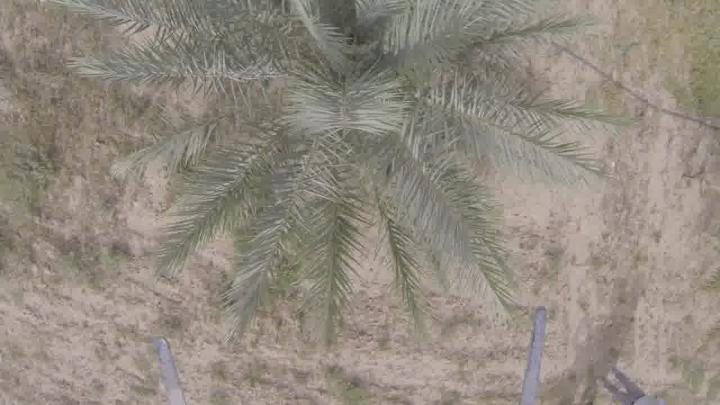Date-Palm-Crown: (160, 1, 522, 288)
